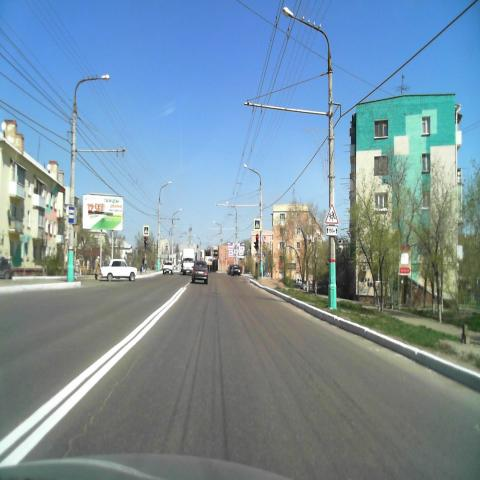1_23: (324, 202, 339, 224)
